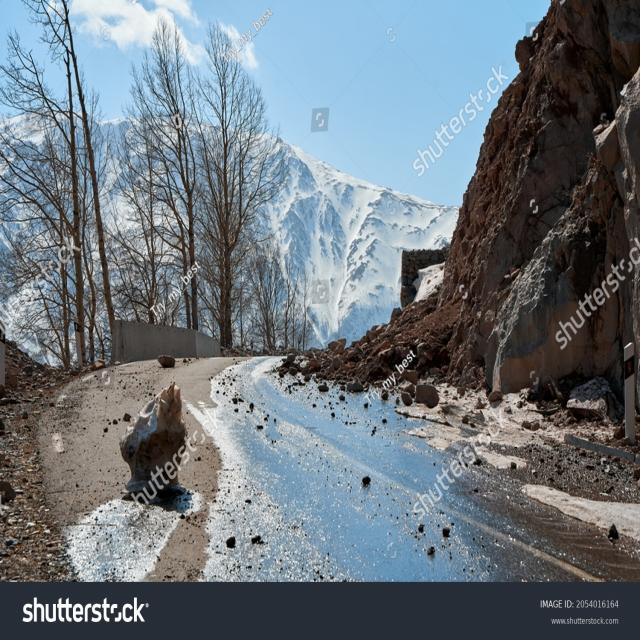landSliding: (104, 249, 634, 557)
